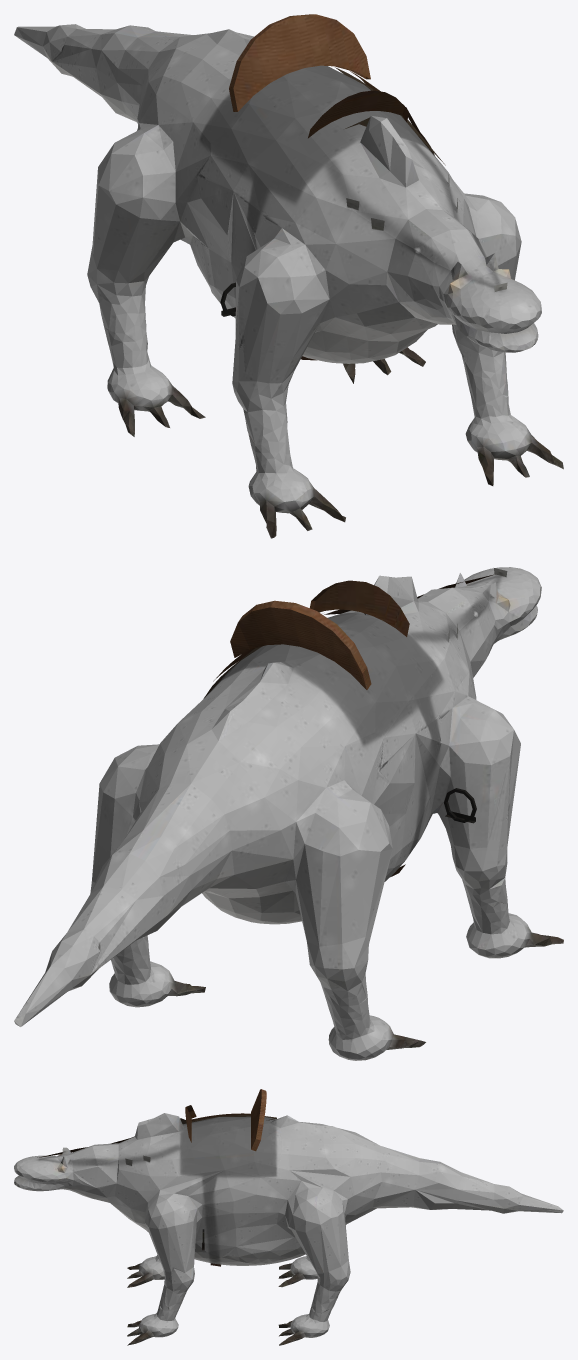
Rendered from horse_drake.glb.
3 views of the same model, one above another, from view 1: azimuth 30°, elevation 25°; view 2: azimuth 150°, elevation 25°; view 3: azimuth 270°, elevation 25° (orthographic). The views are drawn at different scales.
Visible parts, largest first — view 1: horse_drake_LOD0; view 2: horse_drake_LOD0; view 3: horse_drake_LOD0.
Boxes of the visible parts, box(x1,y1,x2,y2) form: horse_drake_LOD0: box(14, 14, 563, 538); horse_drake_LOD0: box(14, 567, 563, 1060); horse_drake_LOD0: box(14, 1089, 563, 1345).
Size of what is drawn, in the model's own units: 1.14 by 1.47 by 3.4.
1 material, 1 textured.
